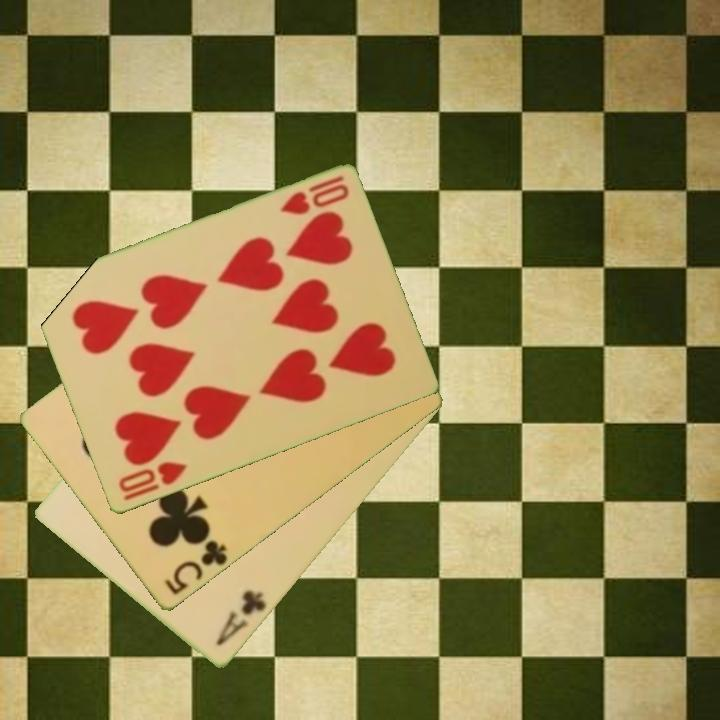10h: (114, 458, 190, 505), (276, 172, 352, 219)
5c: (161, 537, 231, 599)
Ac: (212, 586, 270, 650)
